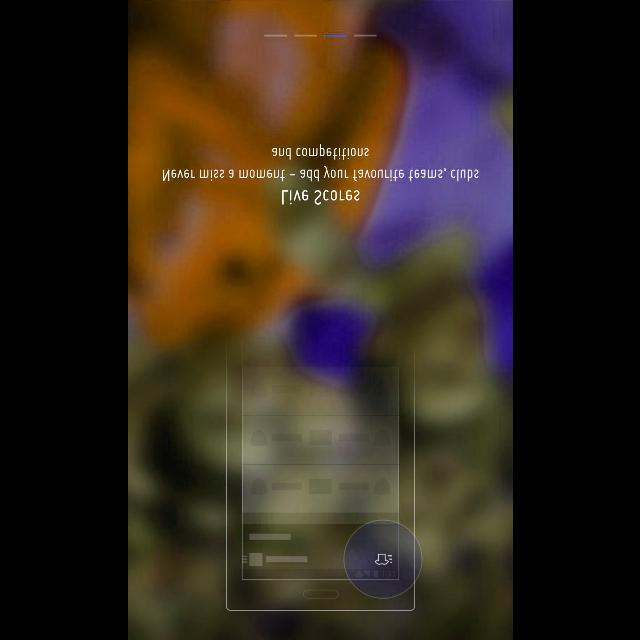backgroundimage: (128, 0, 512, 638)
image: (224, 338, 422, 610)
pageindicator: (263, 34, 377, 38)
text: (162, 144, 478, 182), (281, 189, 359, 205)
